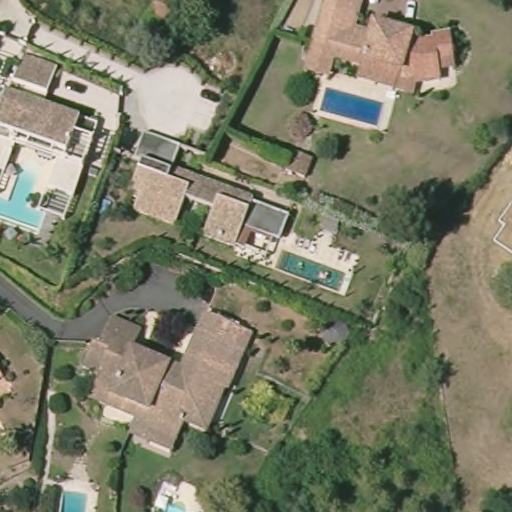pool: (272, 240, 351, 301), (1, 159, 61, 238), (314, 80, 391, 134), (55, 480, 100, 511)
